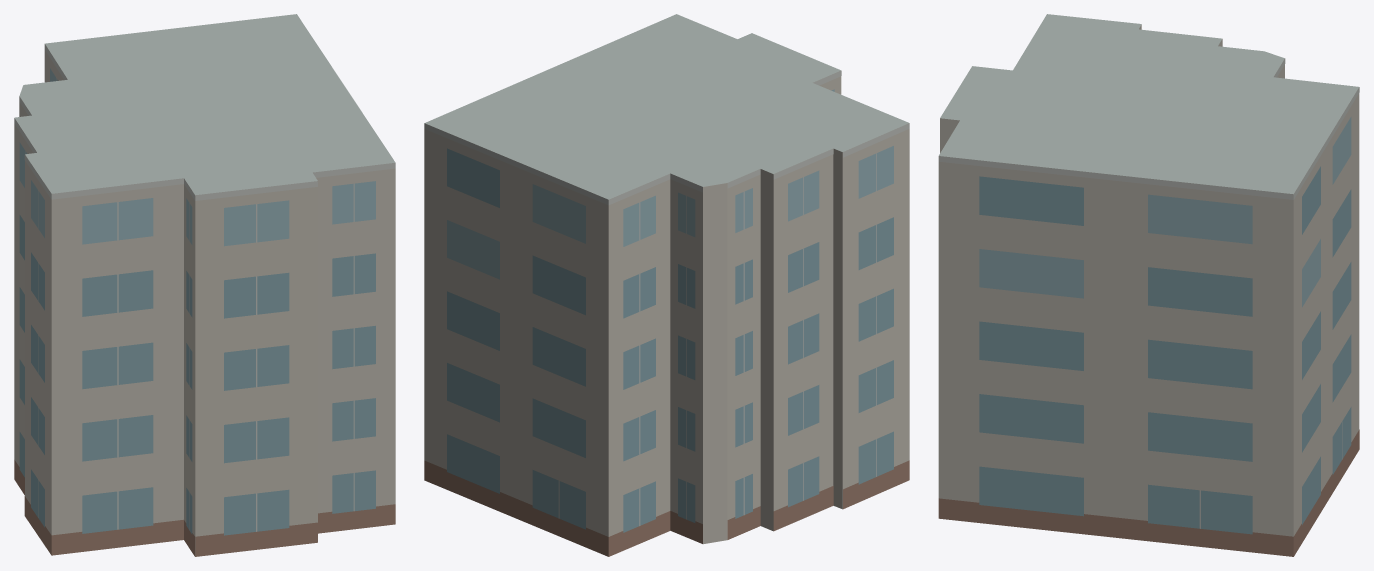
The model's file is survey-upis-32883182.glb.
3 views of the same model, side by side, from view 1: azimuth 30°, elevation 25°; view 2: azimuth 150°, elevation 25°; view 3: azimuth 270°, elevation 25° (orthographic).
Parts seen in each view (by area): view 1: survey-upis-32883182.tmp; view 2: survey-upis-32883182.tmp; view 3: survey-upis-32883182.tmp.
Part boxes in pixels (bbox=[...]): survey-upis-32883182.tmp: bbox=[14, 14, 395, 556]; survey-upis-32883182.tmp: bbox=[424, 14, 909, 556]; survey-upis-32883182.tmp: bbox=[938, 14, 1359, 556].
Size of the model in its own units: 16.26 by 15.25 by 16.05.
